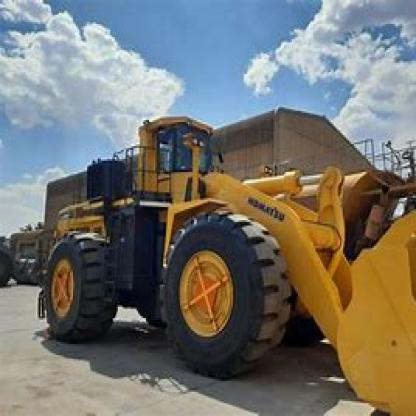bull_dozer/loader/grader: (28, 102, 414, 414)
